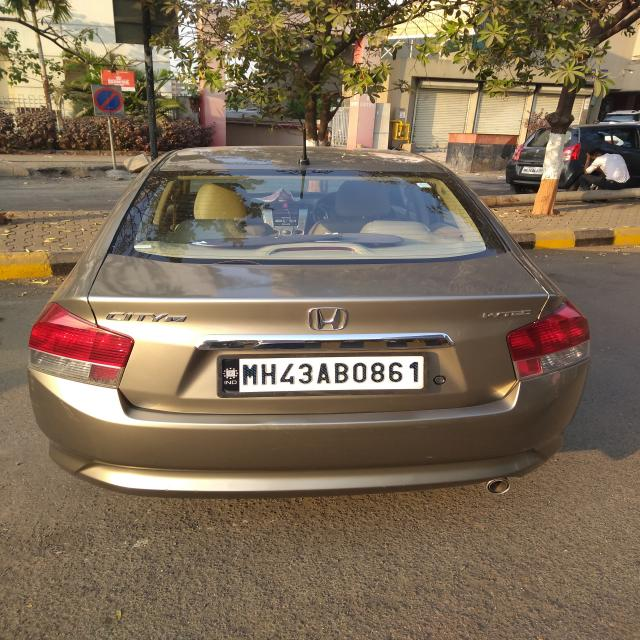Number-Plate: (216, 354, 429, 390)
